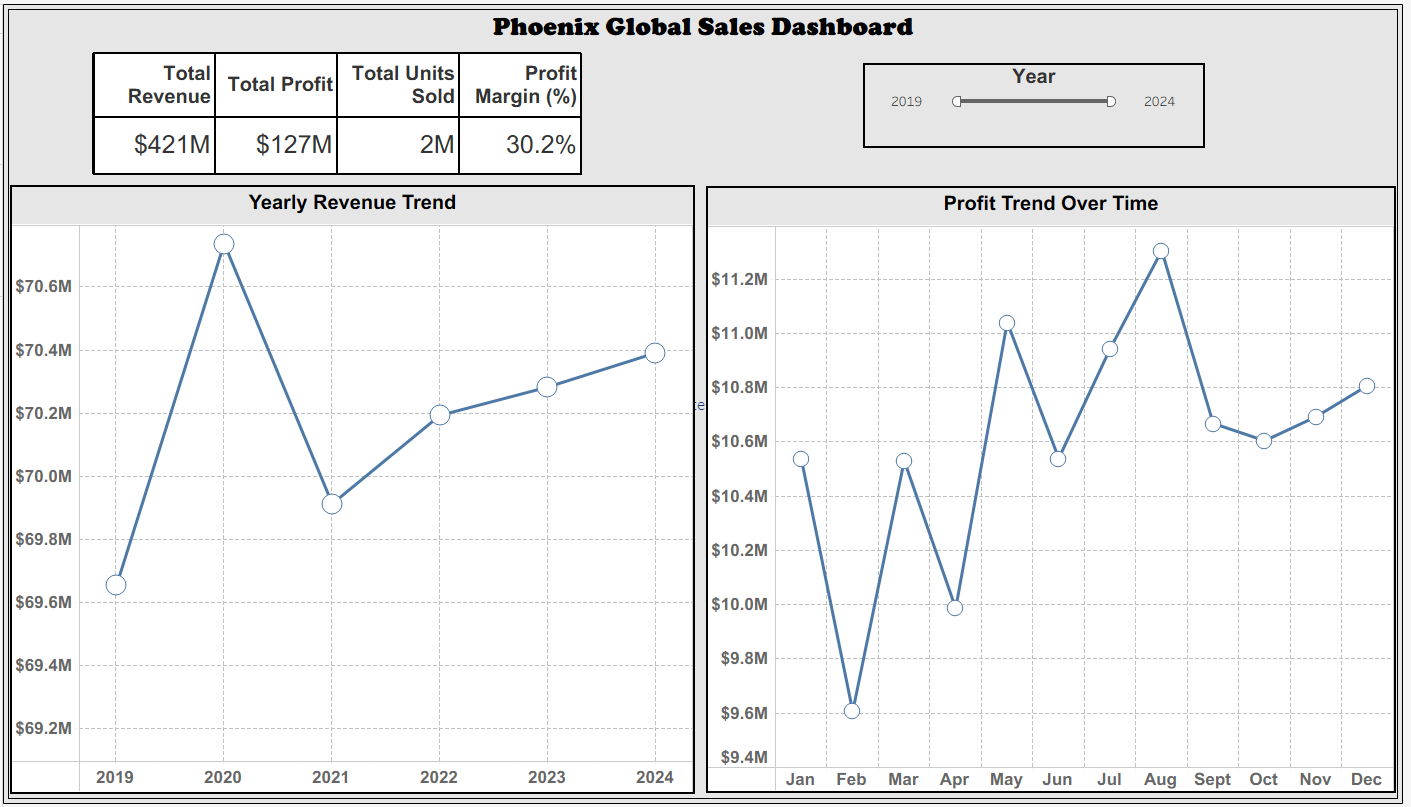

The dashboard page shown, as its layout file describes it:
{"tool":"tableau","page":{"name":"Executive Performance Overview","canvas":[1400,800],"ordinal":0},"visuals":[{"type":"text","box":[0,0,1400,45]},{"type":"dashboard-object","param":"[com.tableau.addfilters].[0.0.0].[https://extensions.tableauusercontent.com/sand","box":[1,1,1398,798]},{"type":"worksheet","title":"1 KPI's ","mark":"Automatic","box":[89,48,490,123]},{"type":"filter","title":"Yearly Revenue Trend","param":"[federated.19p0de10o1mvsv1ekhwdb1qbov7f].[tyr:Date:qk]","box":[860,59,342,85]},{"type":"worksheet","title":"Yearly Revenue Trend","mark":"Line","rows":["Revenue","Revenue"],"cols":["Date"],"box":[7,181,685,609]},{"type":"worksheet","title":"Profit Trend Over Time","mark":"Line","rows":["Profit","Profit"],"cols":["Date"],"box":[703,182,690,607]}]}

Visuals, with their boxes in screenshot pixels (x1, y1, x2, y2), scaled from the page's 1400x800 canvas onto the 1411x807 screenshot:
text: [left=0, top=0, right=1410, bottom=45]
dashboard-object: [left=1, top=1, right=1410, bottom=806]
"1 KPI's " worksheet: [left=90, top=48, right=584, bottom=172]
"Yearly Revenue Trend" filter: [left=867, top=60, right=1211, bottom=145]
"Yearly Revenue Trend" worksheet (Line marks): [left=7, top=183, right=697, bottom=797]
"Profit Trend Over Time" worksheet (Line marks): [left=709, top=184, right=1404, bottom=796]
